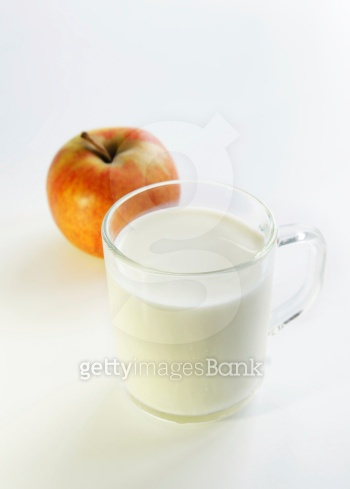glass of milk: (104, 187, 332, 437)
